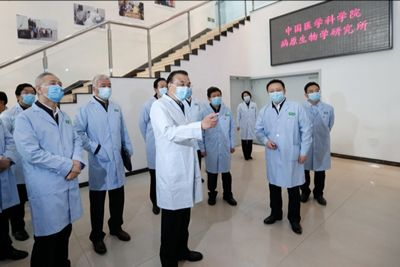with-mask: (30, 70, 68, 107), (166, 65, 193, 107), (266, 74, 286, 110), (90, 73, 115, 101), (15, 81, 38, 111), (203, 83, 225, 114), (301, 81, 322, 103), (151, 75, 171, 97), (239, 89, 254, 108)
